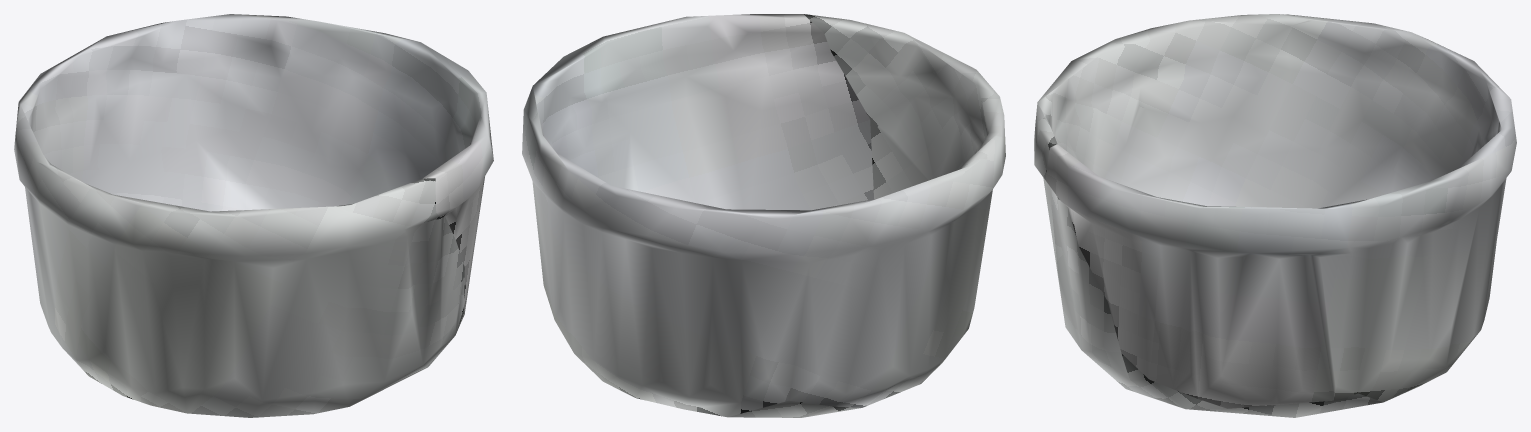
The model's file is Utana_5_Porcelain_Ramekin_Large-low.glb.
3 views of the same model, side by side, from view 1: azimuth 30°, elevation 25°; view 2: azimuth 150°, elevation 25°; view 3: azimuth 270°, elevation 25° (orthographic).
Parts seen in each view (by area): view 1: Utana_5_Porcelain_Ramekin_Large; view 2: Utana_5_Porcelain_Ramekin_Large; view 3: Utana_5_Porcelain_Ramekin_Large.
Part boxes in pixels (bbox=[...]): Utana_5_Porcelain_Ramekin_Large: bbox=[14, 14, 493, 417]; Utana_5_Porcelain_Ramekin_Large: bbox=[522, 14, 1005, 417]; Utana_5_Porcelain_Ramekin_Large: bbox=[1034, 14, 1516, 417].
Size of the model in its own units: 0.1319 by 0.0692 by 0.1312.
Materials: 1 (1 with a texture image).
